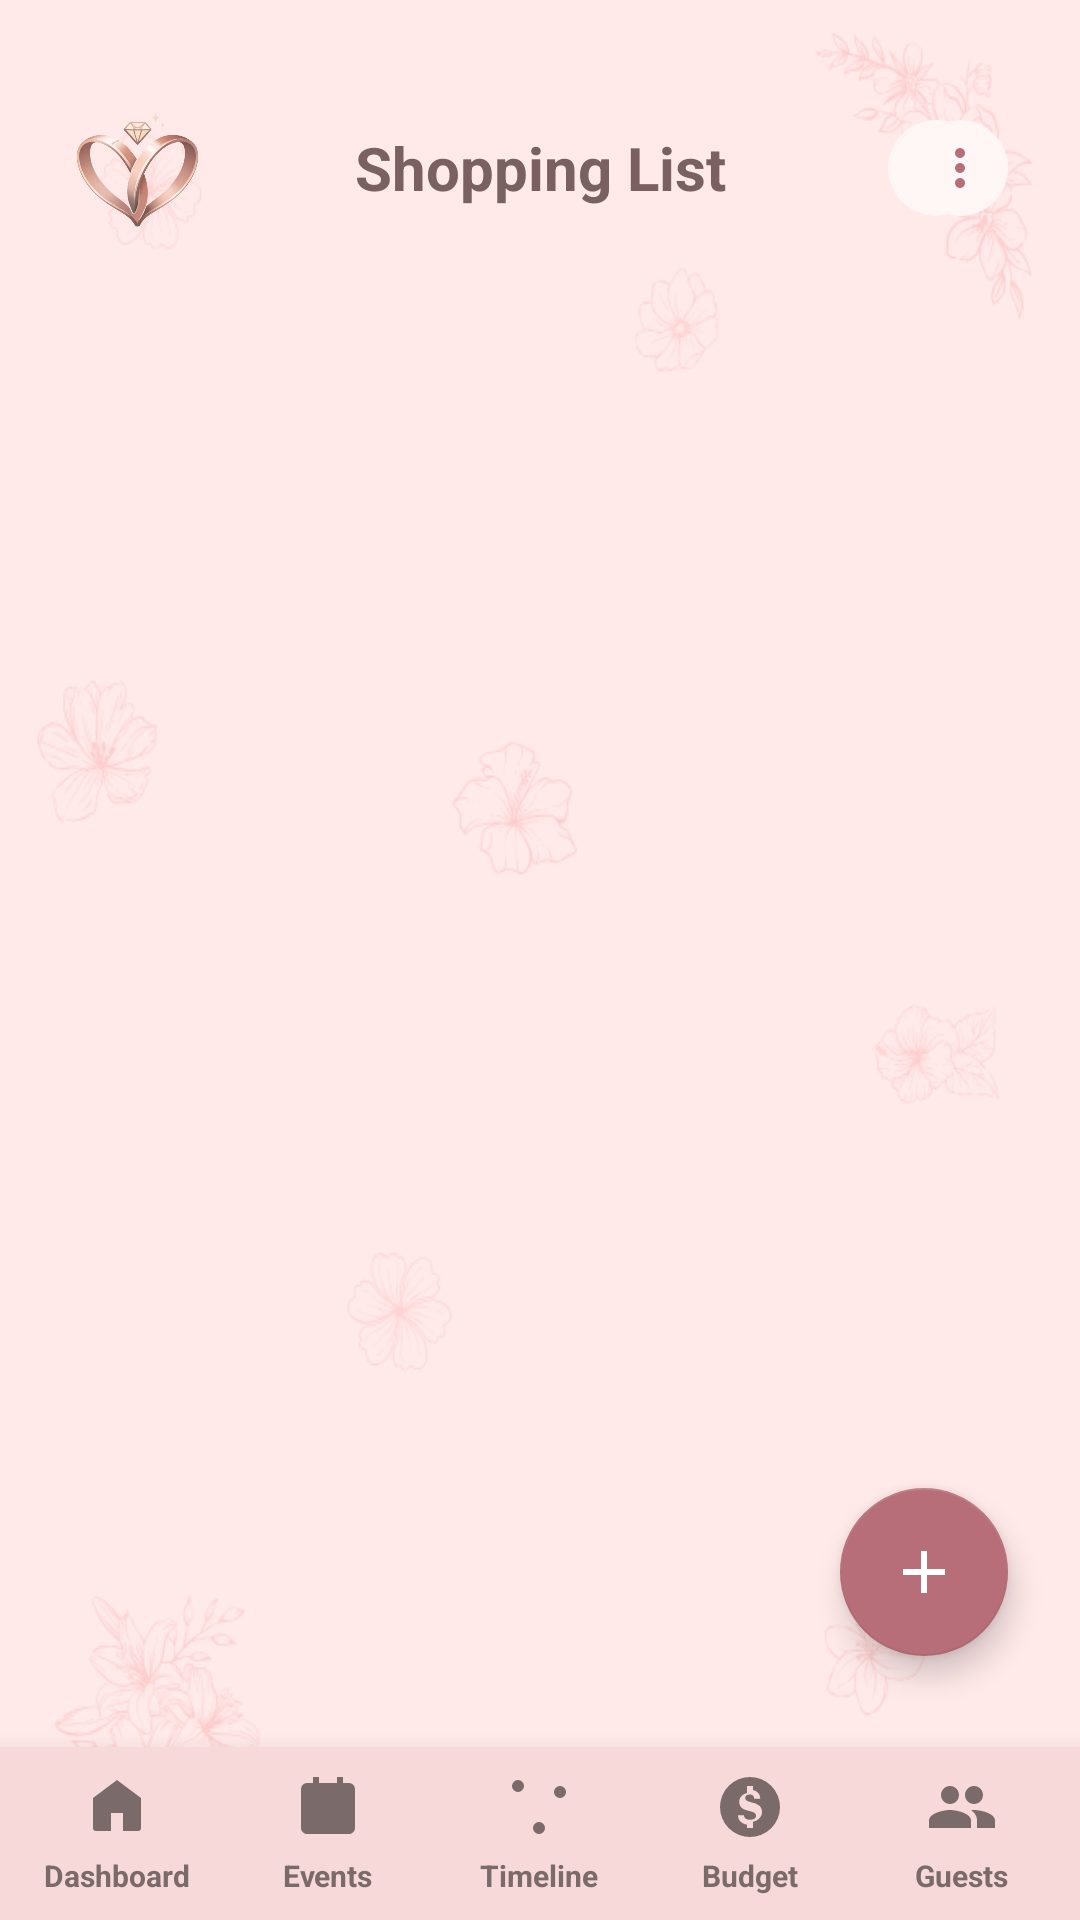

Point at icon controls on the screen. Image size 1080px x 1920px, points as (x,y).
add: (924,1572)
more: (960,168)
